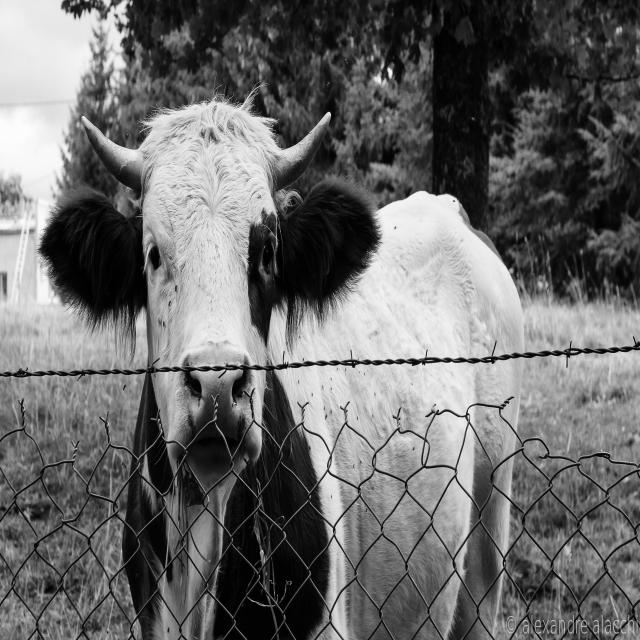cow: (41, 100, 524, 638)
